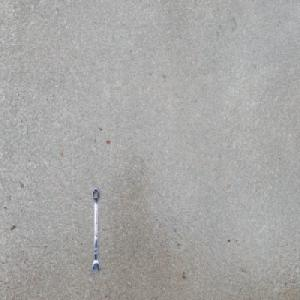Wrench: (91, 186, 100, 276)
